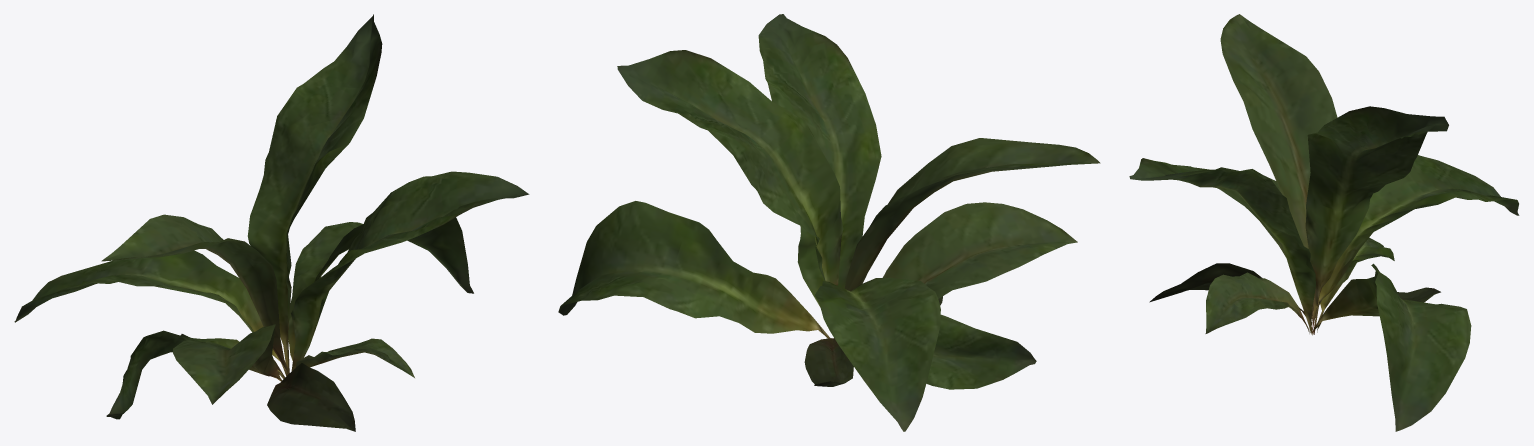
Rendered from ph-anthurium-botany-01.lod1.glb.
The picture shows the model from 3 angles, left to right: view 1: azimuth 30°, elevation 25°; view 2: azimuth 150°, elevation 25°; view 3: azimuth 270°, elevation 25°; orthographic projection.
Parts seen in each view (by area): view 1: anthurium_botany_01_b; view 2: anthurium_botany_01_b; view 3: anthurium_botany_01_b.
Part boxes in pixels (box(x1,y1,x2,y2)): anthurium_botany_01_b: box(14, 14, 529, 431); anthurium_botany_01_b: box(558, 14, 1100, 431); anthurium_botany_01_b: box(1129, 14, 1519, 431).
Size of the model in its own units: 0.7563 by 0.4712 by 0.5689.
Materials: 1 (1 with a texture image).
